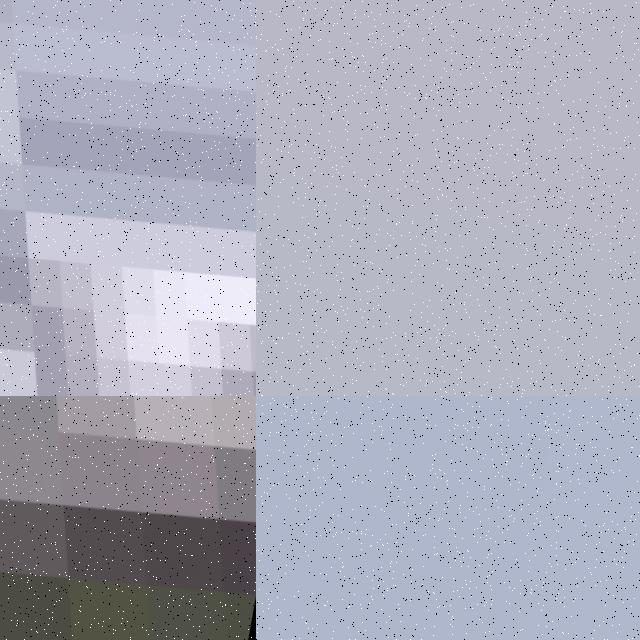drone: (0, 0, 256, 396), (0, 396, 256, 640)
